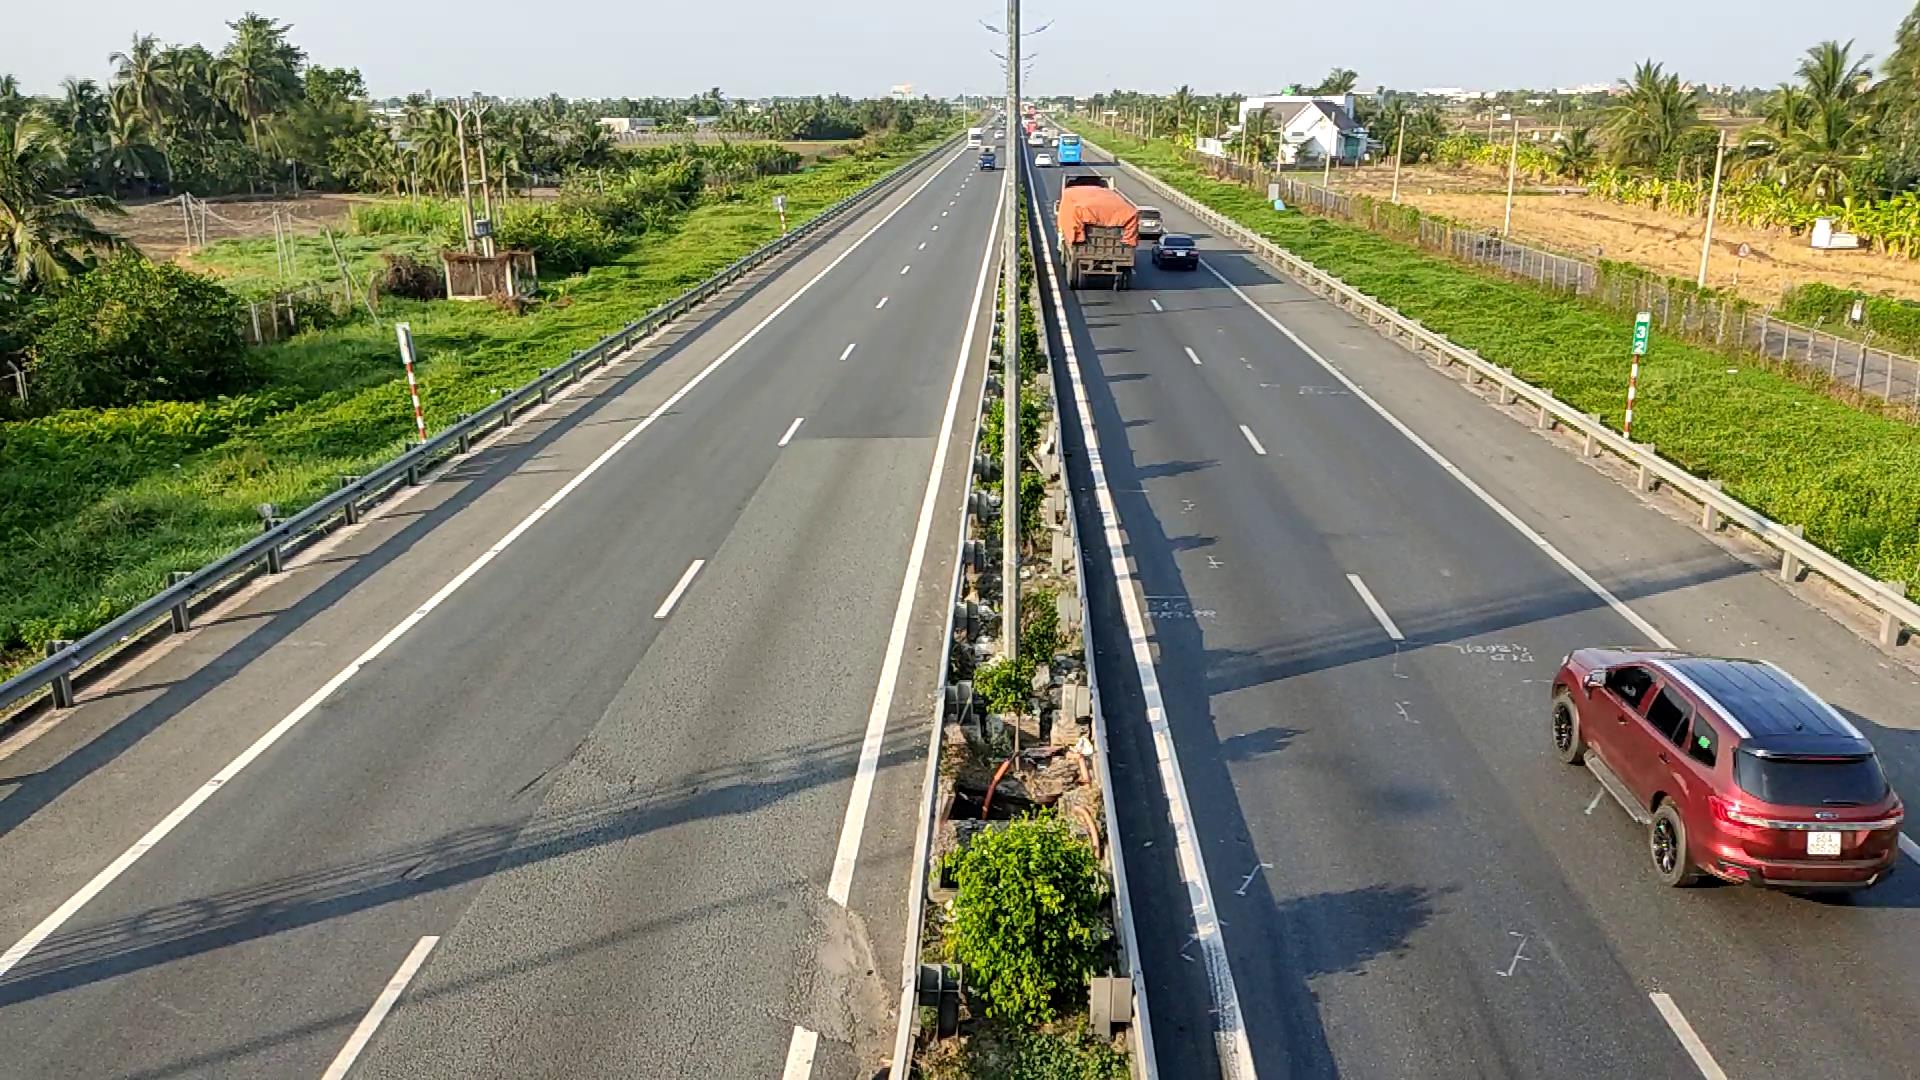car: (1547, 642, 1907, 893), (1153, 229, 1199, 269)
truck: (1056, 181, 1138, 289)
